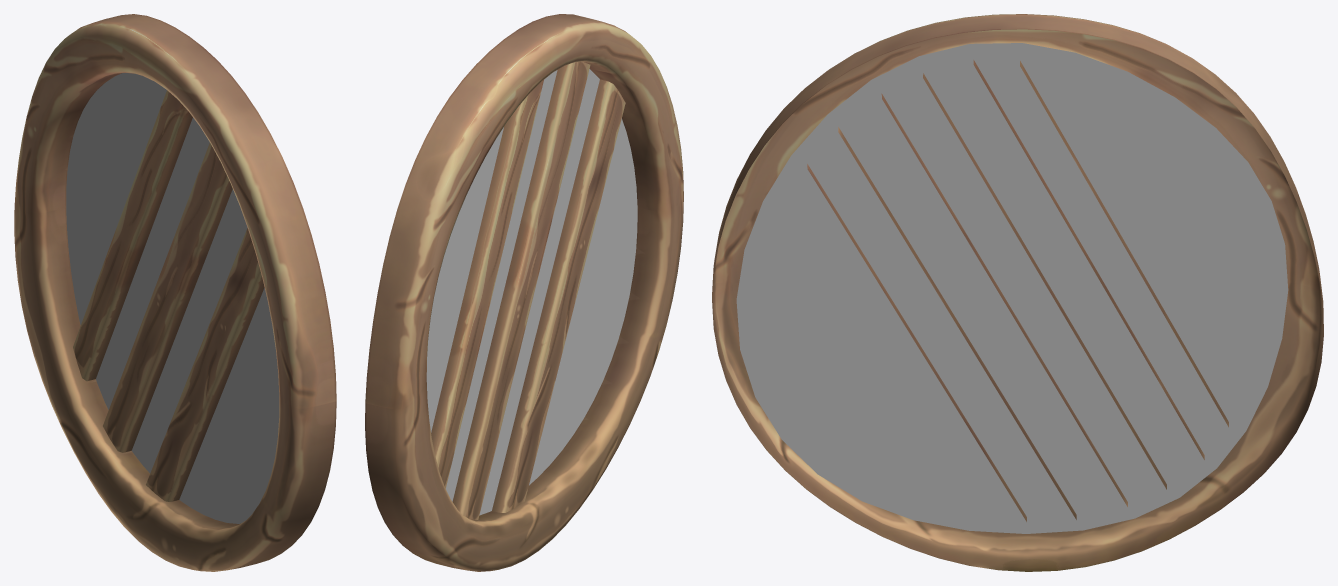
File: SM_Window_02.fbx
The picture shows the model from 3 angles, left to right: view 1: azimuth 30°, elevation 25°; view 2: azimuth 150°, elevation 25°; view 3: azimuth 270°, elevation 25°; orthographic projection. The views are drawn at different scales.
Parts seen in each view (by area): view 1: SM_Window_02_LOD0; view 2: SM_Window_02_LOD0; view 3: SM_Window_02_LOD0.
Part boxes in pixels (x1,y1,x2,y2): SM_Window_02_LOD0: (14,14,336,571); SM_Window_02_LOD0: (365,14,683,571); SM_Window_02_LOD0: (712,14,1323,571).
Size of the model in its own units: 13.93 by 175 by 172.
2 materials, 1 textured.
